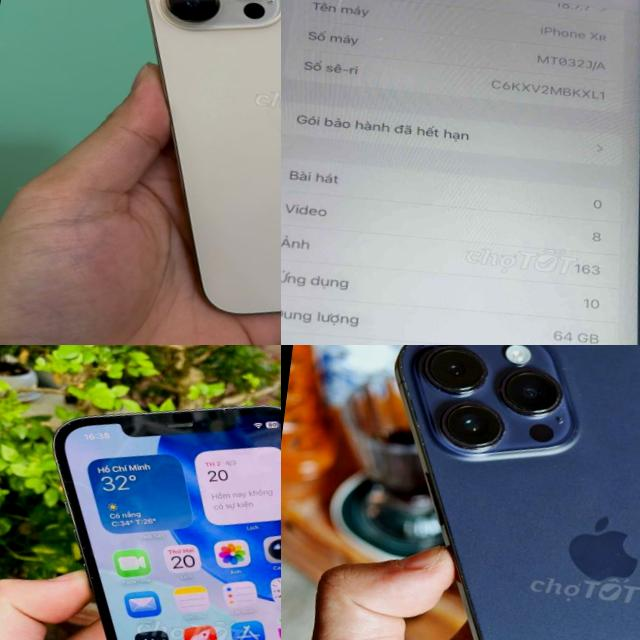gen_12_13: (16, 376, 281, 640)
gen_14: (337, 345, 640, 640), (76, 0, 281, 345)
gen_x_xs: (281, 0, 640, 345)
